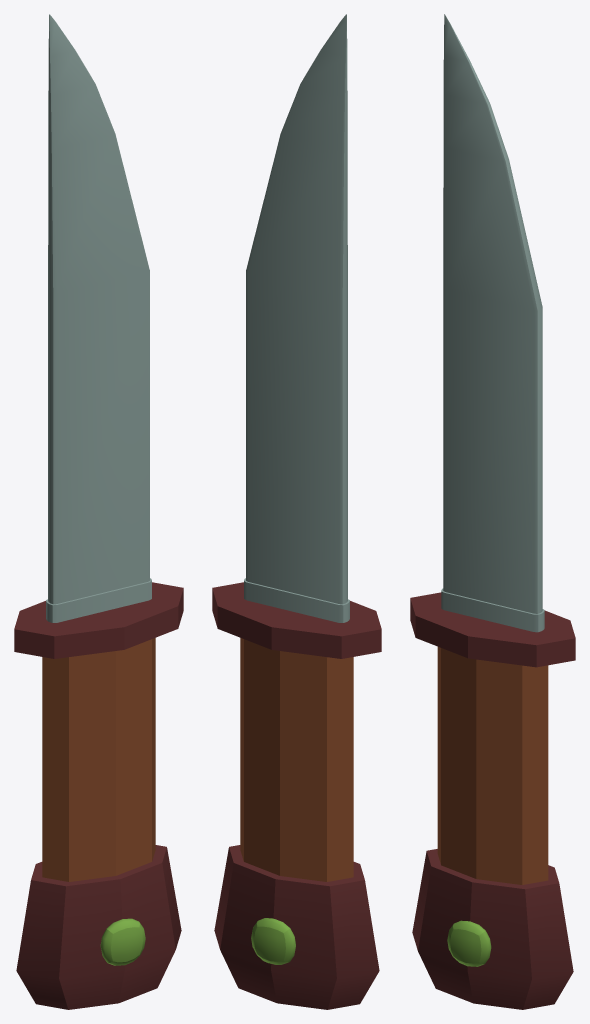
File: Dagger.fbx
3 renders of one model, left to right at view 1: azimuth 30°, elevation 25°; view 2: azimuth 150°, elevation 25°; view 3: azimuth 330°, elevation 25°, orthographic. The views are drawn at different scales.
Parts seen in each view (by area): view 1: Cube; view 2: Cube; view 3: Cube.
Boxes of the visible parts, left/top/right/bottom form: Cube: left=14, top=14, right=183, bottom=1009; Cube: left=212, top=14, right=381, bottom=1009; Cube: left=410, top=14, right=575, bottom=1009.
Size of the model in its own units: 96.93 by 539 by 57.32.
